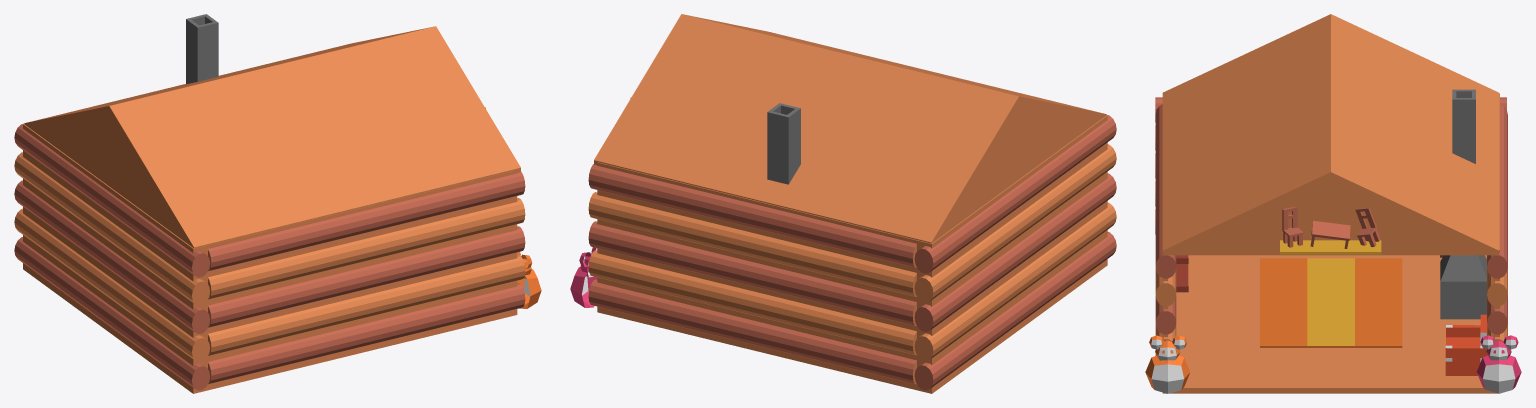
File: yeni_bolum_sonu3.fbx
3 views of the same model, side by side, from view 1: azimuth 30°, elevation 25°; view 2: azimuth 150°, elevation 25°; view 3: azimuth 270°, elevation 25° (orthographic). The views are drawn at different scales.
Parts seen in each view (by area): view 1: Cylinder; view 2: Cylinder; view 3: Cylinder.
Boxes of the visible parts, x1,y1,x2,y2 form: Cylinder: (14,14,541,393); Cylinder: (570,14,1116,393); Cylinder: (1145,14,1521,393).
Bounding box in the file's own units: 3901 × 2355 × 3593.
